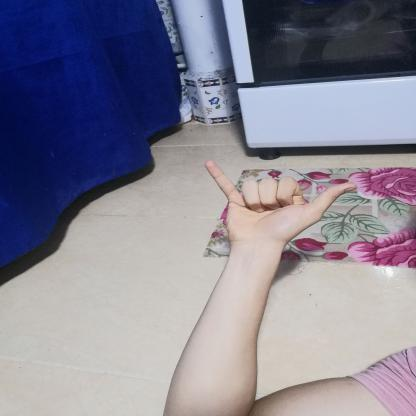YA: (195, 150, 368, 254)
